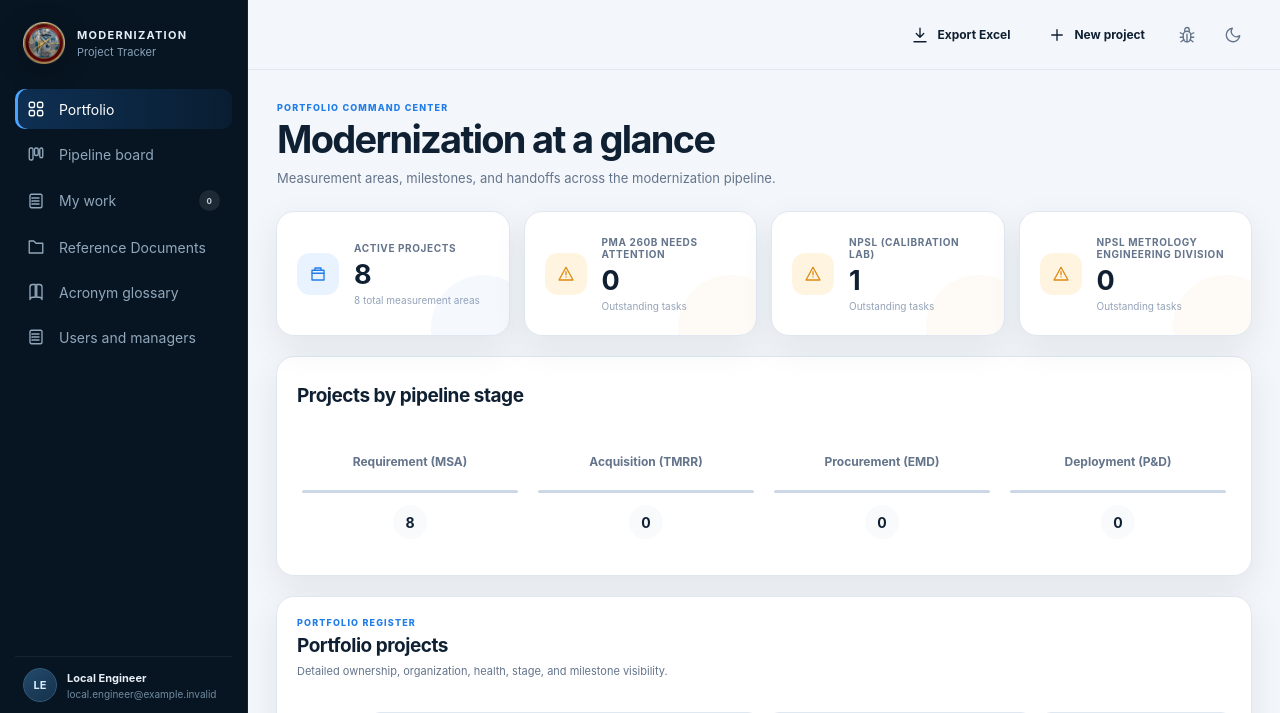
Test: application shell › shows all portfolio rows and detailed overdue and exception records
What coordinates should you click on to do the following:
click the button with class "kpi-card" that starts with "NPSL (Calibration Lab)"
I would click on:
 (888, 274)
Its box is 771,212 -> 1004,336.
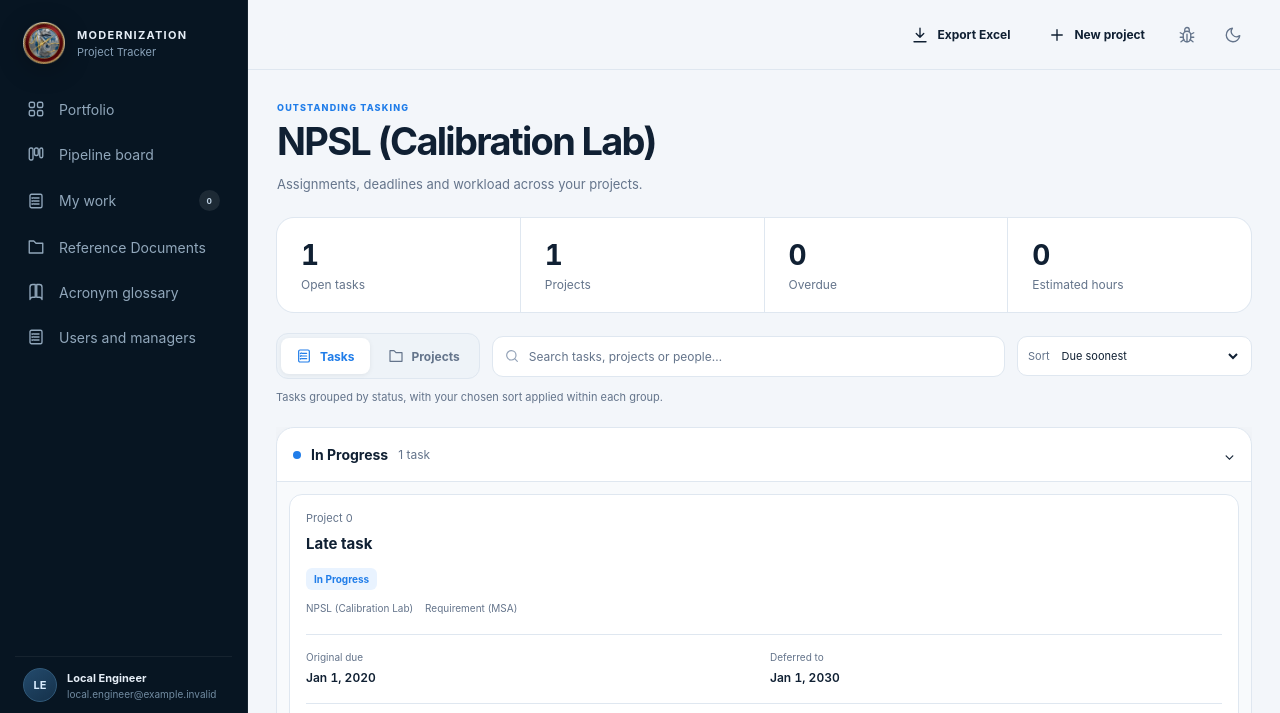
Now the text "Overdue" is shown, box 788,278 -> 837,292
